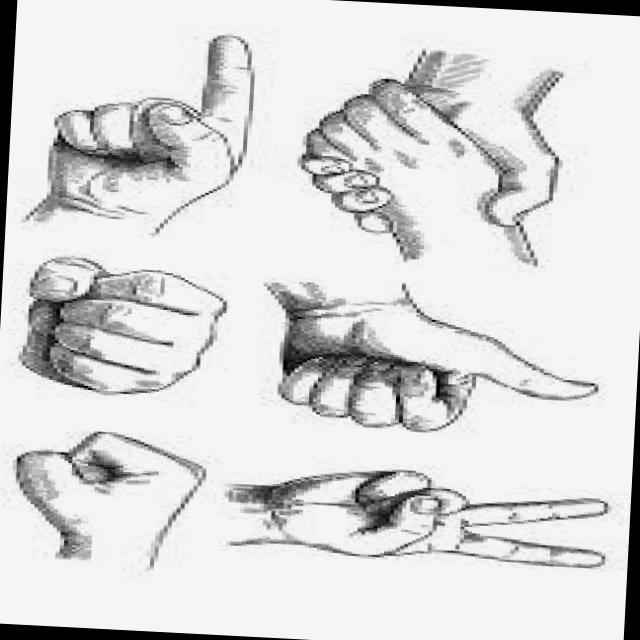Hand: (270, 306, 608, 443), (220, 460, 616, 576), (35, 22, 266, 214), (332, 92, 569, 242), (16, 252, 238, 404), (300, 72, 512, 228), (7, 425, 214, 581)
